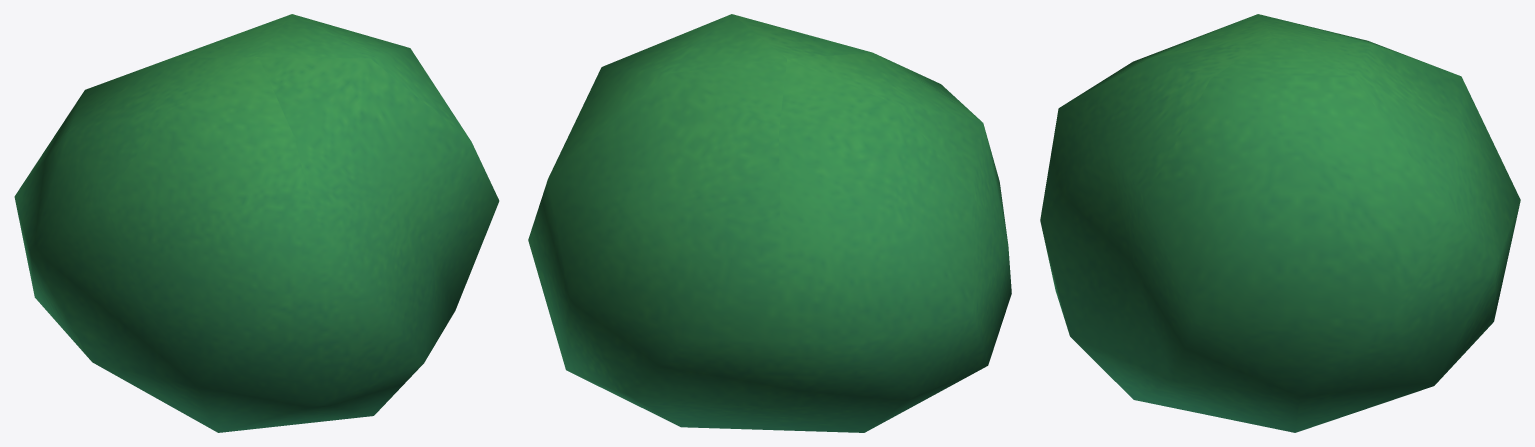
Rendered from Bush_3.fbx.
3 views of the same model, side by side, from view 1: azimuth 30°, elevation 25°; view 2: azimuth 150°, elevation 25°; view 3: azimuth 270°, elevation 25° (orthographic). The views are drawn at different scales.
Parts seen in each view (by area): view 1: Icosphere.039; view 2: Icosphere.039; view 3: Icosphere.039.
Boxes of the visible parts, x1,y1,x2,y2 form: Icosphere.039: (14,14,499,432); Icosphere.039: (528,14,1011,432); Icosphere.039: (1040,14,1520,432).
Size of the model in its own units: 121 by 97.01 by 118.
1 material, 1 textured.
